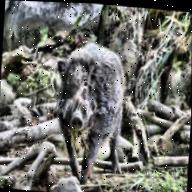boar: (52, 30, 163, 192)
